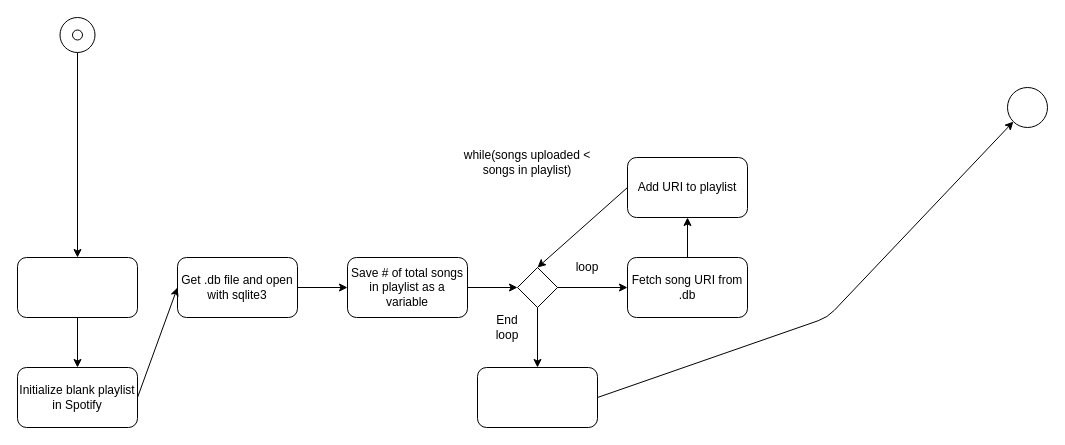
Some shapes in this 1065 by 445 pixel diagram are drawn without their labels. The shapes that lost their labels are listed below. From the top down, each one's centre as x and y in pixels, then its label:
At pixel 77 287: "Receive call to create playlist".
At pixel 537 397: "Go back to main menu".
